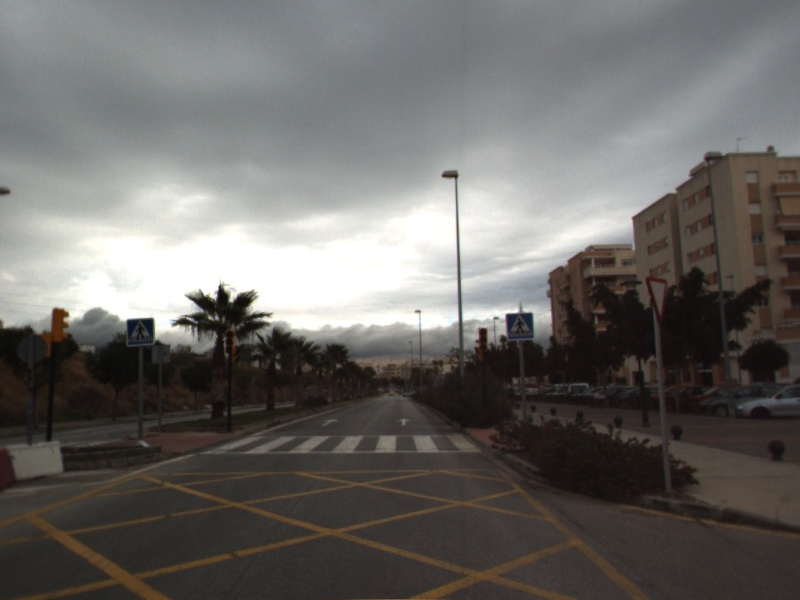STRAIGHT: (320, 417, 340, 428), (395, 416, 413, 427)
